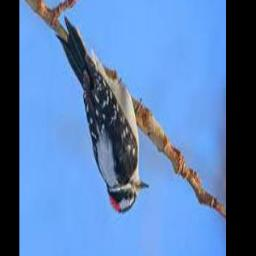Woodpecker: (57, 18, 149, 214)
